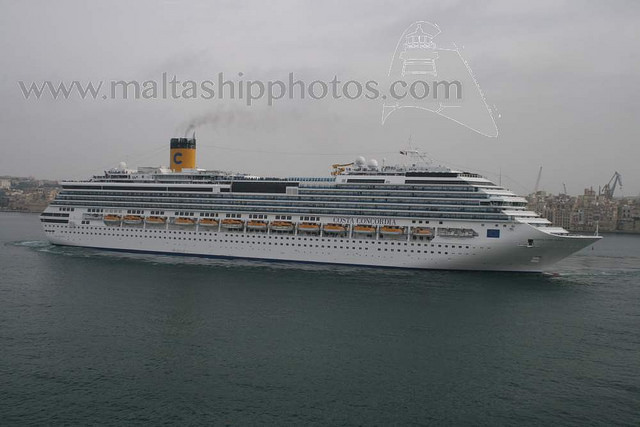cruise_ship: (36, 137, 606, 274)
